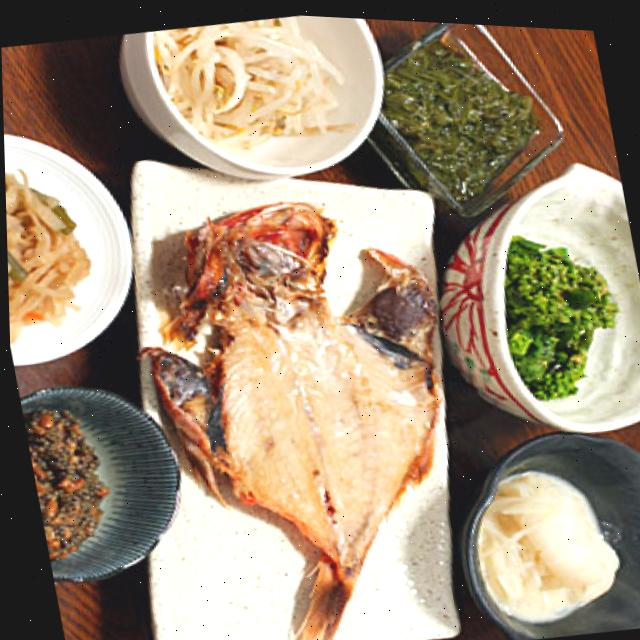熟制海鲜: (117, 167, 498, 640)
